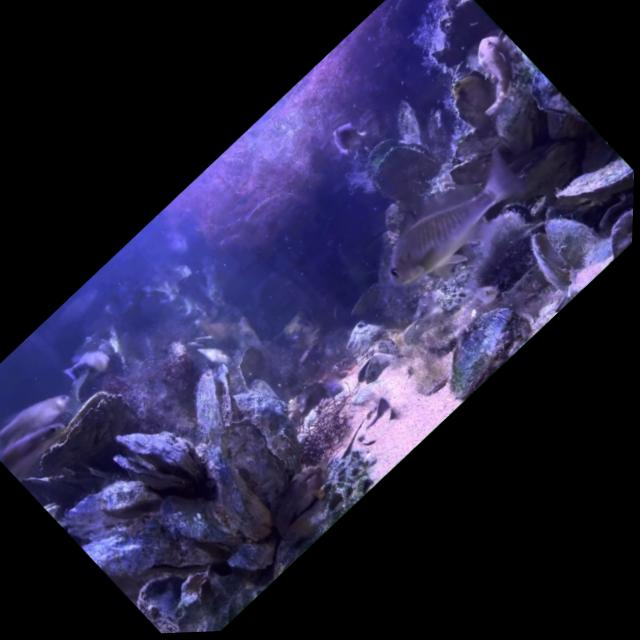Oyster-Closed: (442, 26, 578, 164), (182, 439, 289, 550), (27, 379, 136, 486), (491, 124, 595, 227), (207, 406, 304, 506), (18, 431, 116, 529), (550, 141, 635, 235), (434, 58, 517, 141), (445, 138, 506, 198)
Oyster-Indeterminate: (76, 472, 233, 630), (222, 369, 327, 478), (150, 474, 250, 577), (127, 555, 220, 635), (90, 459, 166, 536), (225, 337, 296, 411), (379, 96, 442, 160), (447, 111, 508, 171)
Oyster-Open: (101, 402, 219, 522), (352, 119, 456, 225), (515, 199, 617, 302), (174, 358, 263, 448), (350, 349, 393, 392)
